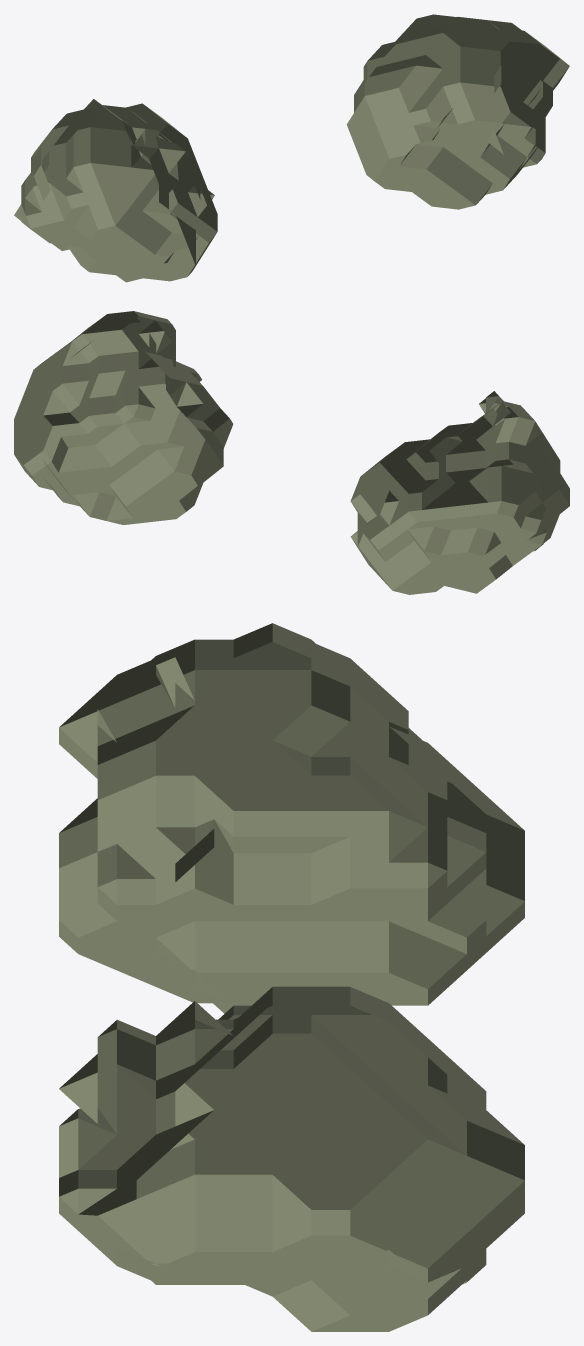
Rendered from region_0100_NR__red_nucleus_.glb.
3 renders of one model, top to bottom at view 1: azimuth 30°, elevation 25°; view 2: azimuth 150°, elevation 25°; view 3: azimuth 270°, elevation 25°, orthographic. The views are drawn at different scales.
Parts seen in each view (by area): view 1: world; view 2: world; view 3: world.
Part boxes in pixels (left/top/right/bottom): world: left=14, top=14, right=569, bottom=282; world: left=14, top=311, right=569, bottom=594; world: left=59, top=623, right=524, bottom=1331.
Bounding box in the file's own units: 0.232 × 0.072 × 0.096.
